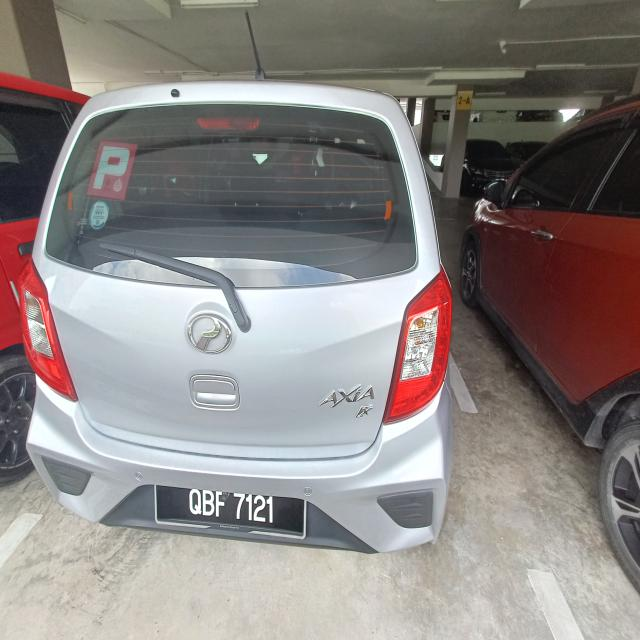PeroduaAxia: (17, 78, 456, 555)
